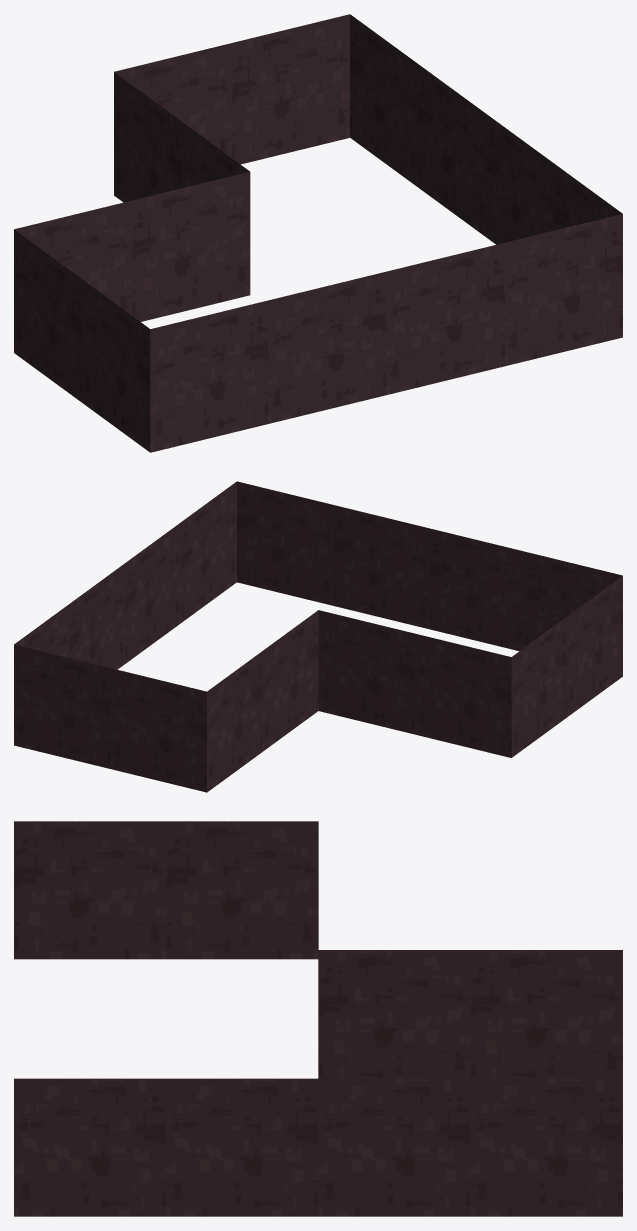
Rendered from LWallFloor.fbx.
3 views of the same model, one above another, from view 1: azimuth 30°, elevation 25°; view 2: azimuth 150°, elevation 25°; view 3: azimuth 270°, elevation 25° (orthographic). The views are drawn at different scales.
Visible parts, largest first — view 1: LWallFloor; view 2: LWallFloor; view 3: LWallFloor.
Boxes of the visible parts, x1=… form: LWallFloor: x1=14, y1=14, x2=622, y2=452; LWallFloor: x1=14, y1=481, x2=622, y2=792; LWallFloor: x1=14, y1=821, x2=622, y2=1216.
Size of the model in its own units: 400 by 100 by 400.
